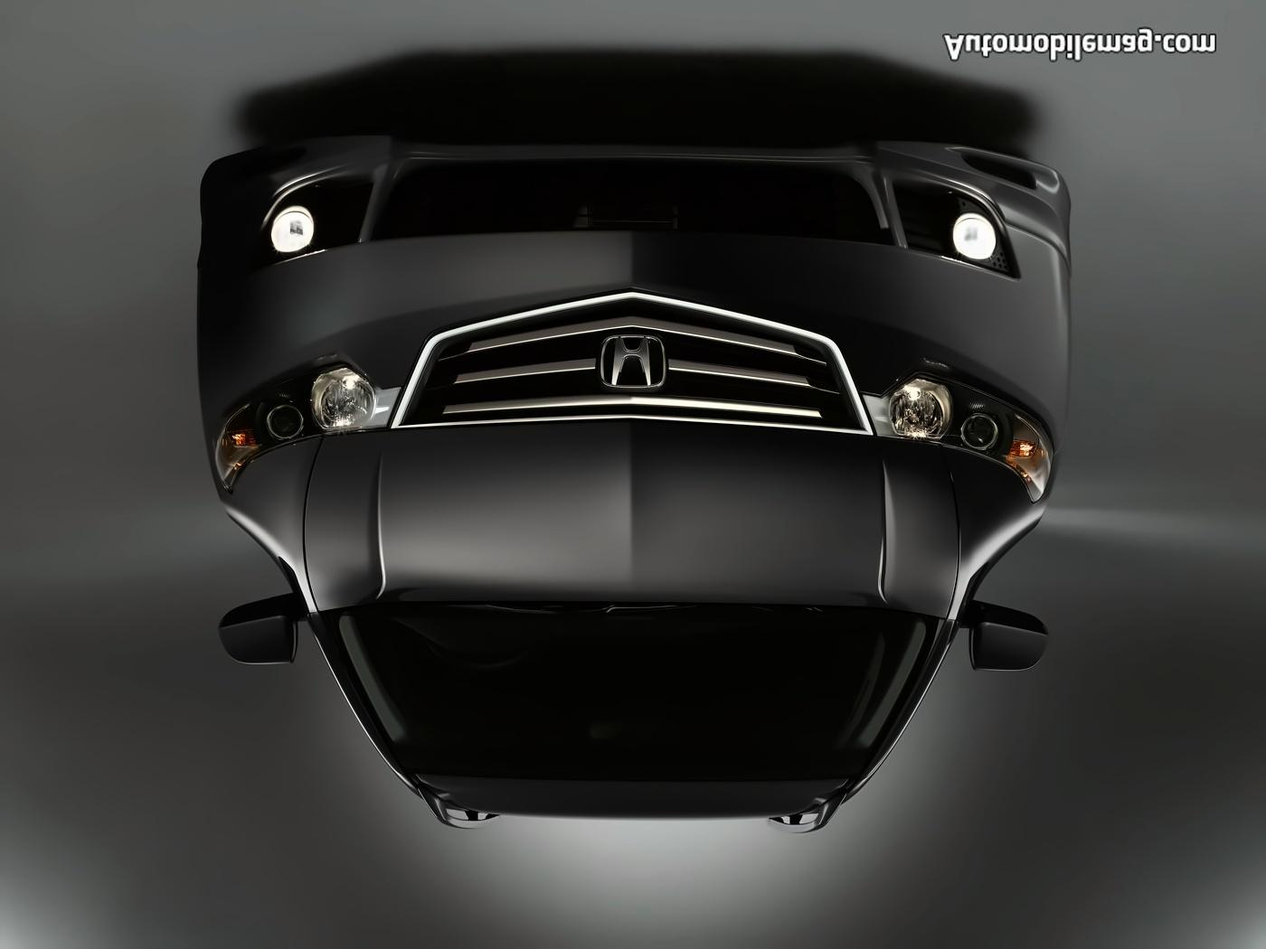Car hood: (291, 422, 975, 636)
Front bumper: (181, 119, 1078, 346)
Headlight - -L-: (205, 342, 389, 505)
Headlight - -R-: (855, 346, 1062, 508)
Side mirror - -L-: (211, 591, 309, 686)
Side mirror - -R-: (959, 591, 1058, 687)
